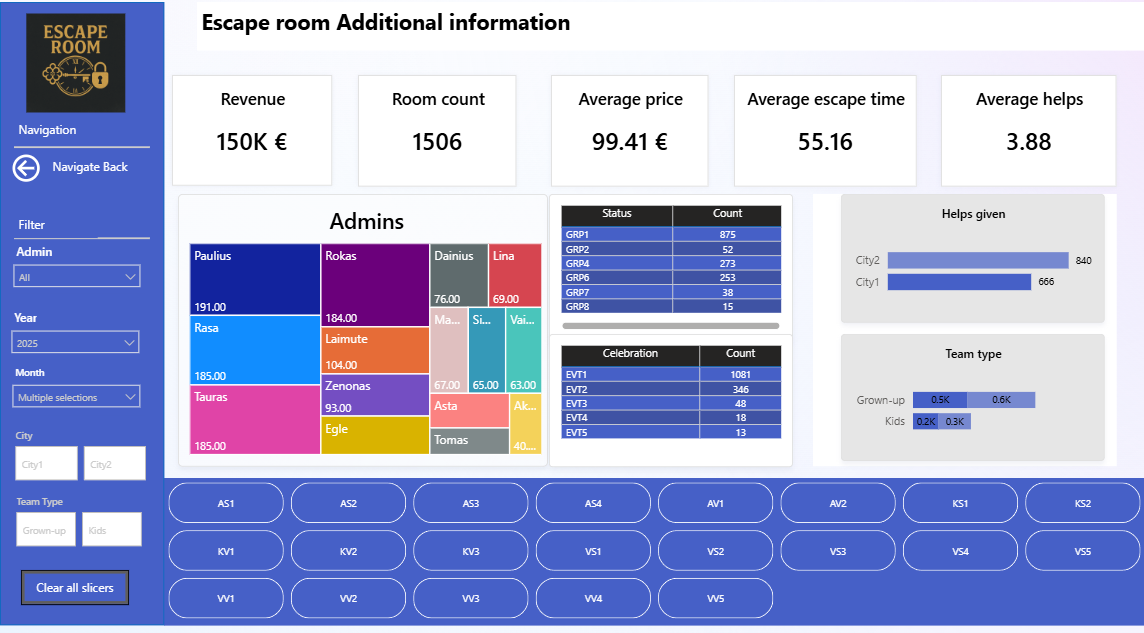

This screenshot's page, from the dashboard's own definition file:
{"tool":"powerbi","page":{"name":"Administrator Info","canvas":[1280,720],"ordinal":3},"visuals":[{"type":"textbox","box":[224.4,9,1055.6,54.1],"z":0},{"type":"treemap","title":"Admins","fields":{"Values":["full_data.Count_Kambarys"],"Group":["full_data.Admin"]},"box":[203.8,222.5,411.2,302.5],"z":1000},{"type":"shape","box":[908.8,222.5,337.5,302.5],"z":2000},{"type":"advancedSlicerVisual","fields":{"Values":["full_data.Room type"]},"box":[187.5,537.5,1092.5,163.8],"z":3000},{"type":"barChart","title":"Team type","fields":{"Category":["full_data.TeamType"],"Y":["full_data.Count_Kambarys"],"Series":["full_data.City"]},"box":[940,377.5,292.5,141.2],"z":4000},{"type":"tableEx","fields":{"Values":["full_data.Status","full_data.Count_Kambarys"]},"box":[615,222.5,271.2,163.8],"z":5000},{"type":"tableEx","fields":{"Values":["full_data.Celebration","full_data.Count_Kambarys"]},"box":[615,377.5,271.2,147.5],"z":6000},{"type":"barChart","title":"Helps given","fields":{"Y":["full_data.Count_Kambarys"],"Category":["full_data.City"]},"box":[940,222.5,292.5,142.5],"z":7000},{"type":"shape","box":[5,8.8,182.5,692.5],"z":8000},{"type":"shape","box":[21.3,156.8,151.1,27.1],"z":9000},{"type":"shape","box":[21.2,248.8,151.2,45],"z":10000},{"type":"textbox","box":[21.2,242.5,92.5,28.8],"z":11000},{"type":"textbox","box":[21.3,136.5,92.5,29.3],"z":12000},{"type":"slicer","fields":{"Values":["full_data.Data.Variation.Date Hierarchy.Year"]},"box":[13.4,349.6,152.2,56.4],"z":13000},{"type":"slicer","fields":{"Values":["full_data.Data.Variation.Date Hierarchy.Month"]},"box":[14.5,412.8,152.2,56.4],"z":14000},{"type":"advancedSlicerVisual","title":"City","fields":{"Values":["full_data.City"]},"box":[17.9,482.7,156.8,63.2],"z":15000},{"type":"advancedSlicerVisual","title":"Team Type","fields":{"Values":["full_data.TeamType"]},"box":[19,556,150,63.2],"z":16000},{"type":"actionButton","box":[13.9,172.8,46.6,40.3],"z":17000},{"type":"textbox","box":[58.7,178.2,120.9,28.7],"z":18000},{"type":"actionButton","box":[29.1,640.3,120,38.5],"z":19000},{"type":"image","box":[27.5,16.2,123.8,120],"z":20000},{"type":"card","title":"Room count","fields":{"Values":["full_data.Count_Kambarys"]},"box":[403.8,90,176.2,123.8],"z":21000},{"type":"card","title":"Average escape time","fields":{"Values":["Avg(full_data.Escape Time)"]},"box":[821.2,90,202.5,123.8],"z":22000},{"type":"card","title":"Average helps","fields":{"Values":["Avg(full_data.Helps)"]},"box":[1051.2,90,195,123.8],"z":23000},{"type":"slicer","fields":{"Values":["full_data.Admin"]},"box":[15,276.2,151.2,56.2],"z":24000},{"type":"card","title":"Revenue","fields":{"Values":["Sum(full_data.Revenue)"]},"box":[196.2,90,177.5,122.5],"z":25000},{"type":"card","title":"Average price","fields":{"Values":["full_data.Average Price"]},"box":[617.5,90,175,123.8],"z":26000}]}

Visuals, with their boxes on the page's 1280x720 design canvas (x1, y1, x2, y2). These are canvas units, not pixel positions in the 1144x633 screenshot, which may show the page scaled, cropped or inside an application window:
textbox: 224:9:1280:63
"Admins" treemap: 204:222:615:525
shape: 909:222:1246:525
advancedSlicerVisual - full_data.Room type: 188:538:1280:701
"Team type" barChart: 940:378:1232:519
tableEx - full_data.Status x full_data.Count_Kambarys: 615:222:886:386
tableEx - full_data.Celebration x full_data.Count_Kambarys: 615:378:886:525
"Helps given" barChart: 940:222:1232:365
shape: 5:9:188:701
shape: 21:157:172:184
shape: 21:249:172:294
textbox: 21:242:114:271
textbox: 21:136:114:166
slicer - full_data.Data.Variation.Date Hierarchy.Year: 13:350:166:406
slicer - full_data.Data.Variation.Date Hierarchy.Month: 14:413:167:469
"City" advancedSlicerVisual: 18:483:175:546
"Team Type" advancedSlicerVisual: 19:556:169:619
actionButton: 14:173:60:213
textbox: 59:178:180:207
actionButton: 29:640:149:679
image: 28:16:151:136
"Room count" card: 404:90:580:214
"Average escape time" card: 821:90:1024:214
"Average helps" card: 1051:90:1246:214
slicer - full_data.Admin: 15:276:166:332
"Revenue" card: 196:90:374:212
"Average price" card: 618:90:792:214
